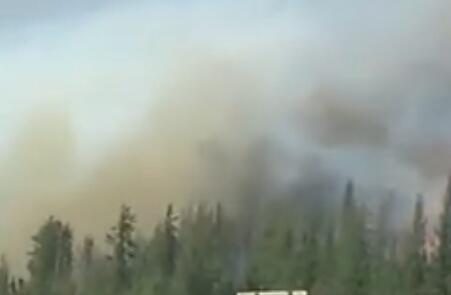yanwu: (1, 2, 451, 214)
